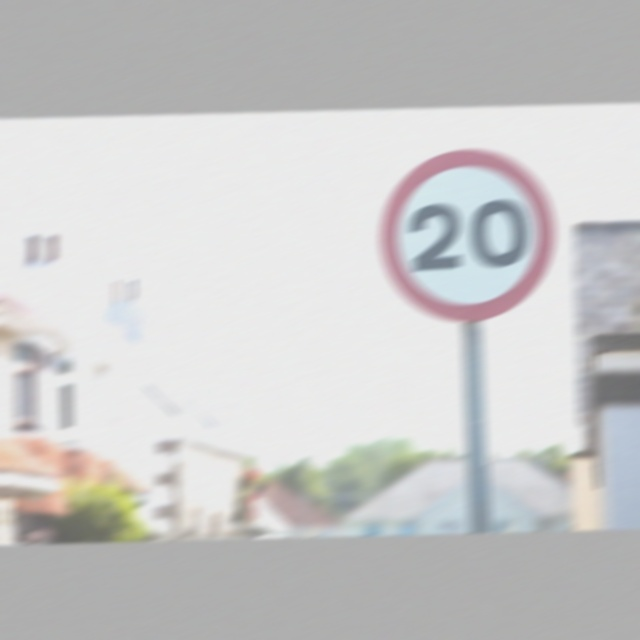Speed_Limit_20: (381, 149, 551, 322)
